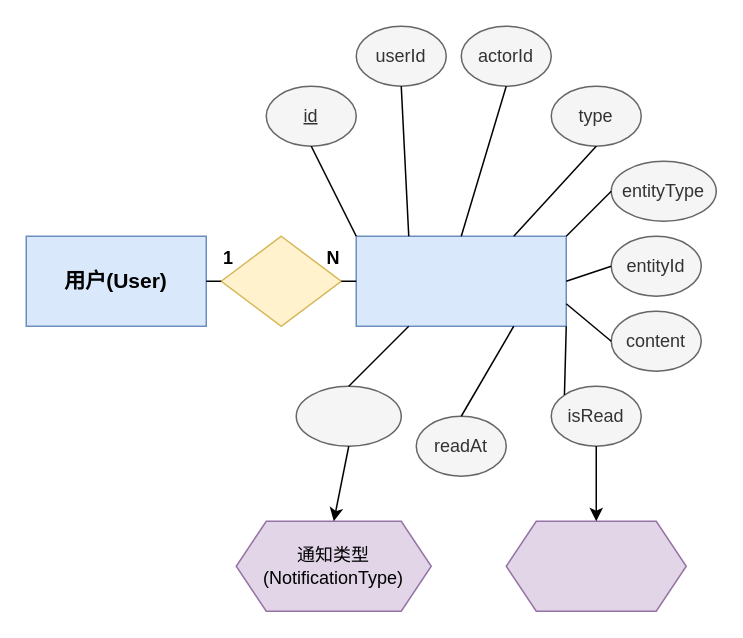
The diagram is 743 pixels wide and 638 high, and some of its shapes have lost their labels. Each missing label, with the box of its shape:
createdAt: (295, 385, 401, 446)
实体类型 (EntityType): (505, 520, 686, 611)
接收 (Receive): (220, 235, 341, 326)
通知(Notification): (355, 235, 566, 326)
